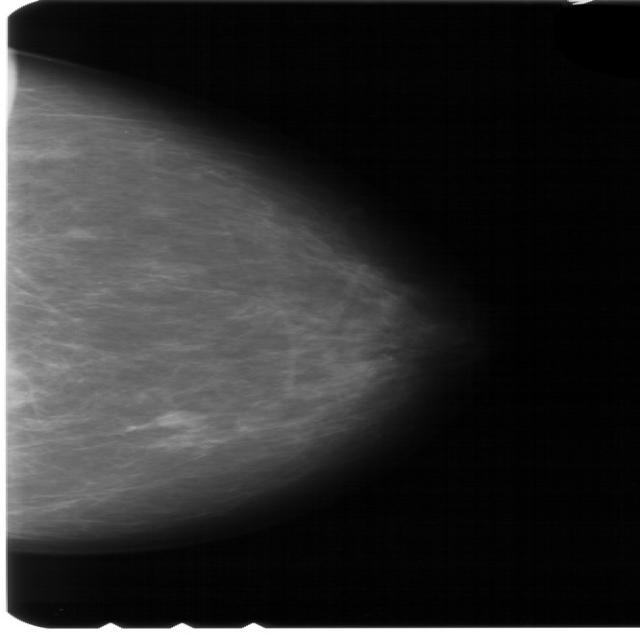tumour: (154, 410, 206, 428)
